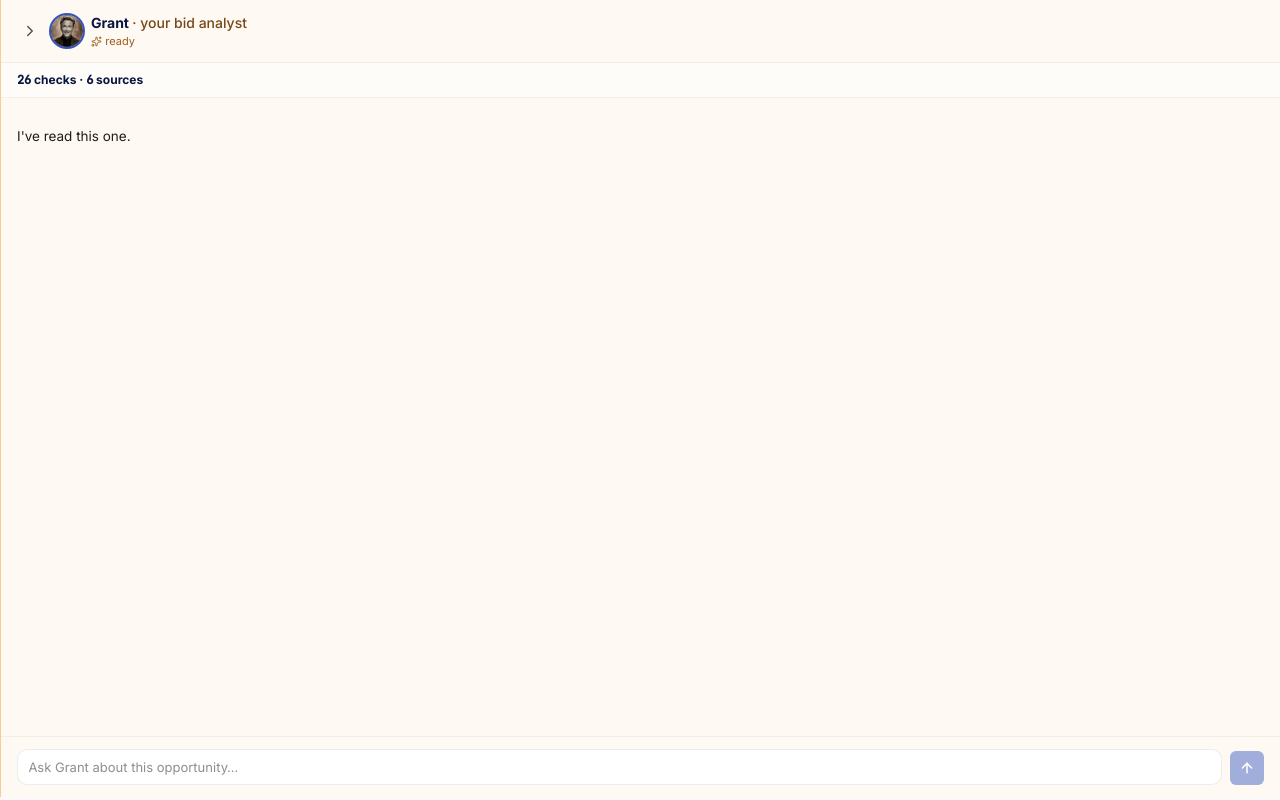
Test: GrantRail — the drafting deflection's mentor CTA (UAT #46 item 2) › renders the mentor button under a draft_request reply and dispatches to the owner
The width and height of the screenshot is (1280, 800).
Later steps or results of the test are not shown.
Type "draft my proposal" into the text box labelled "Ask Grant".
click(620, 767); type("draft my proposal")  # box x1=17 y1=749 x2=1222 y2=785
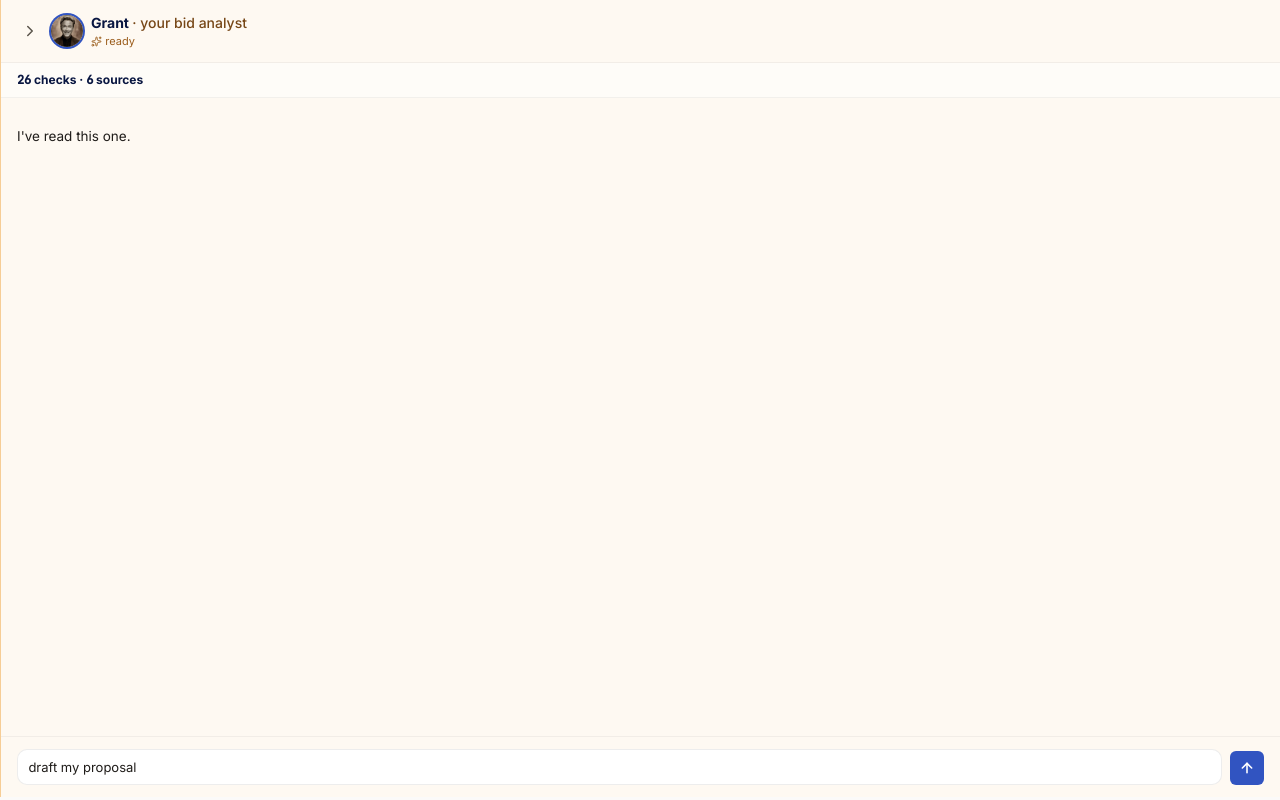
Click the button named "Send".
click(1247, 768)  # box x1=1230 y1=751 x2=1264 y2=785
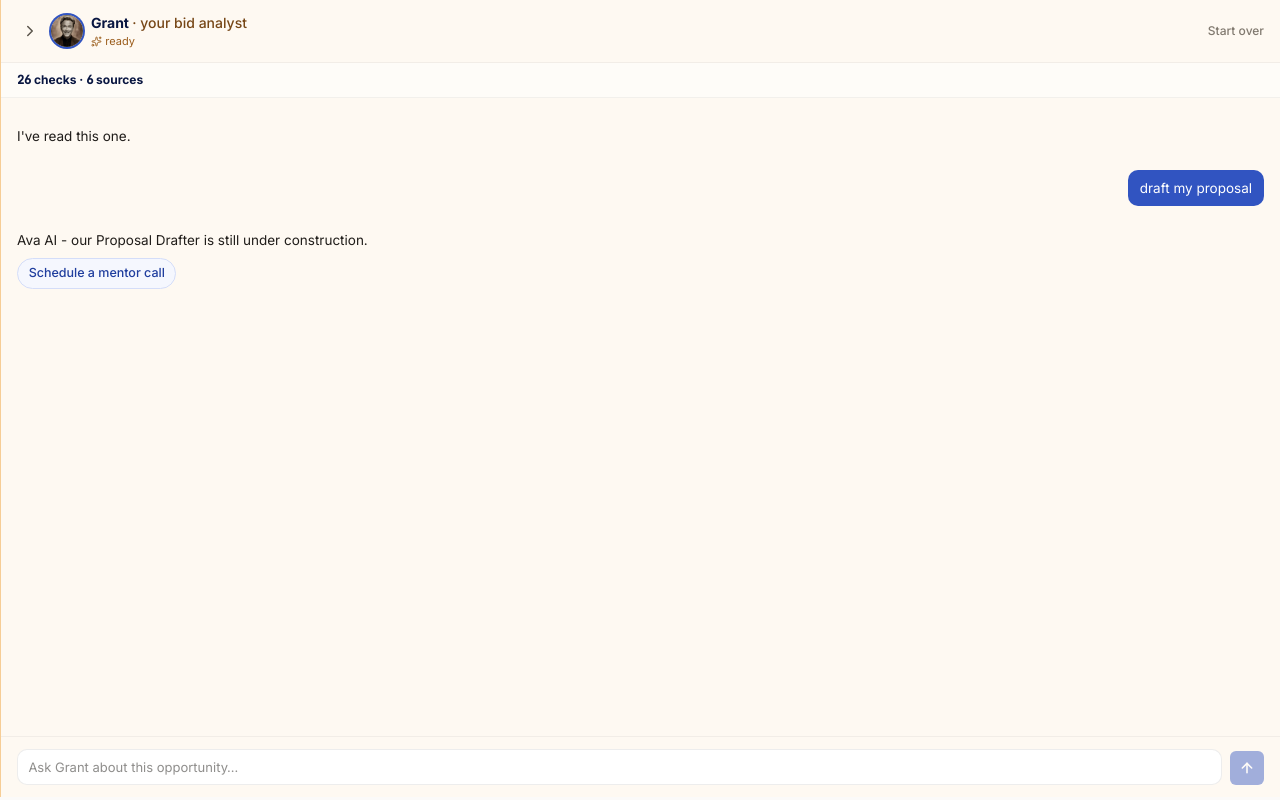
Now the text "Ava AI - our Proposal Drafter is still under construction." is shown, box x1=17 y1=232 x2=368 y2=248
